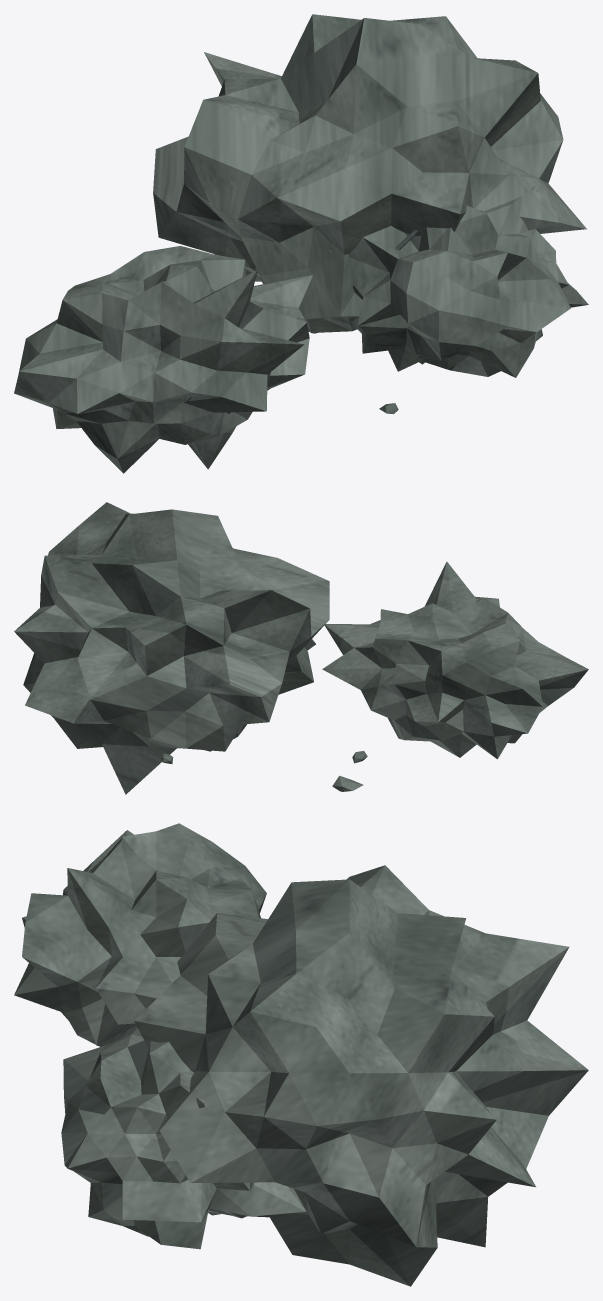
Rendered from 0003_boulder_03.glb.
3 views of the same model, one above another, from view 1: azimuth 30°, elevation 25°; view 2: azimuth 150°, elevation 25°; view 3: azimuth 270°, elevation 25° (orthographic). The views are drawn at different scales.
Parts seen in each view (by area): view 1: stone; view 2: stone; view 3: stone.
Part boxes in pixels (box(x1,y1,x2,y2)): stone: box(14, 14, 588, 473); stone: box(14, 502, 588, 794); stone: box(14, 823, 588, 1286).
Size of the model in its own units: 4 by 2.01 by 2.85.
2 materials, 2 textured.
